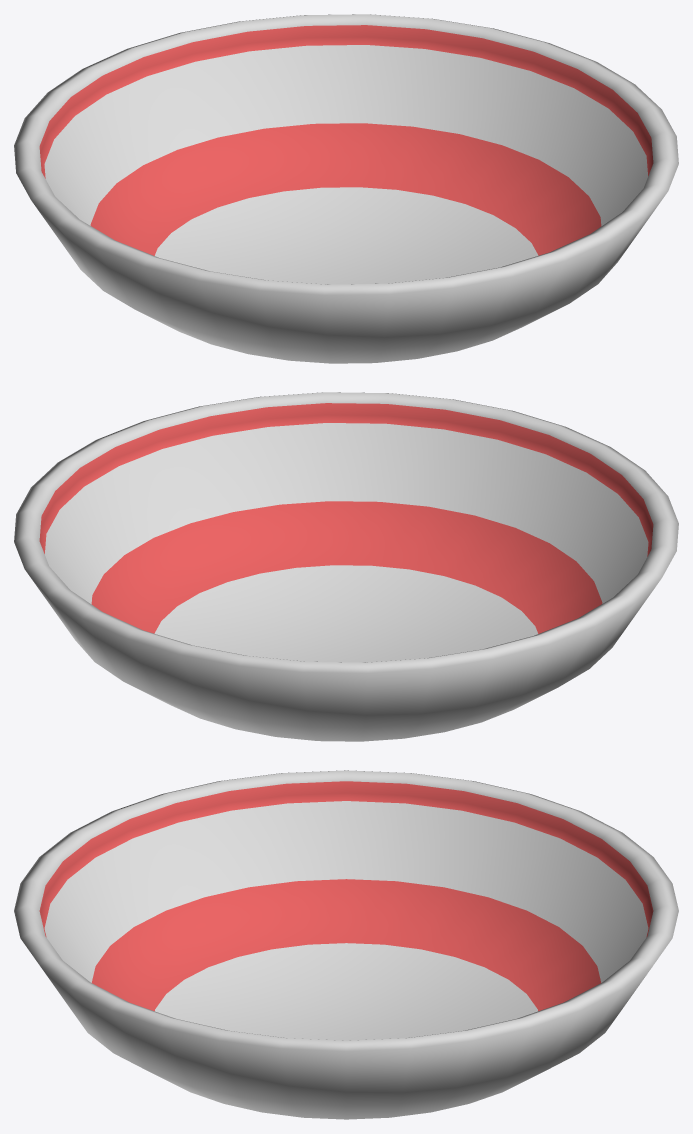
The model's file is Bowl.fbx.
3 renders of one model, top to bottom at view 1: azimuth 30°, elevation 25°; view 2: azimuth 150°, elevation 25°; view 3: azimuth 270°, elevation 25°, orthographic.
Parts seen in each view (by area): view 1: Cylinder; view 2: Cylinder; view 3: Cylinder.
Boxes of the visible parts, bbox=[...] form: Cylinder: bbox=[14, 14, 678, 363]; Cylinder: bbox=[14, 392, 678, 741]; Cylinder: bbox=[14, 770, 678, 1119].
Bounding box in the file's own units: 516 × 136 × 516.
